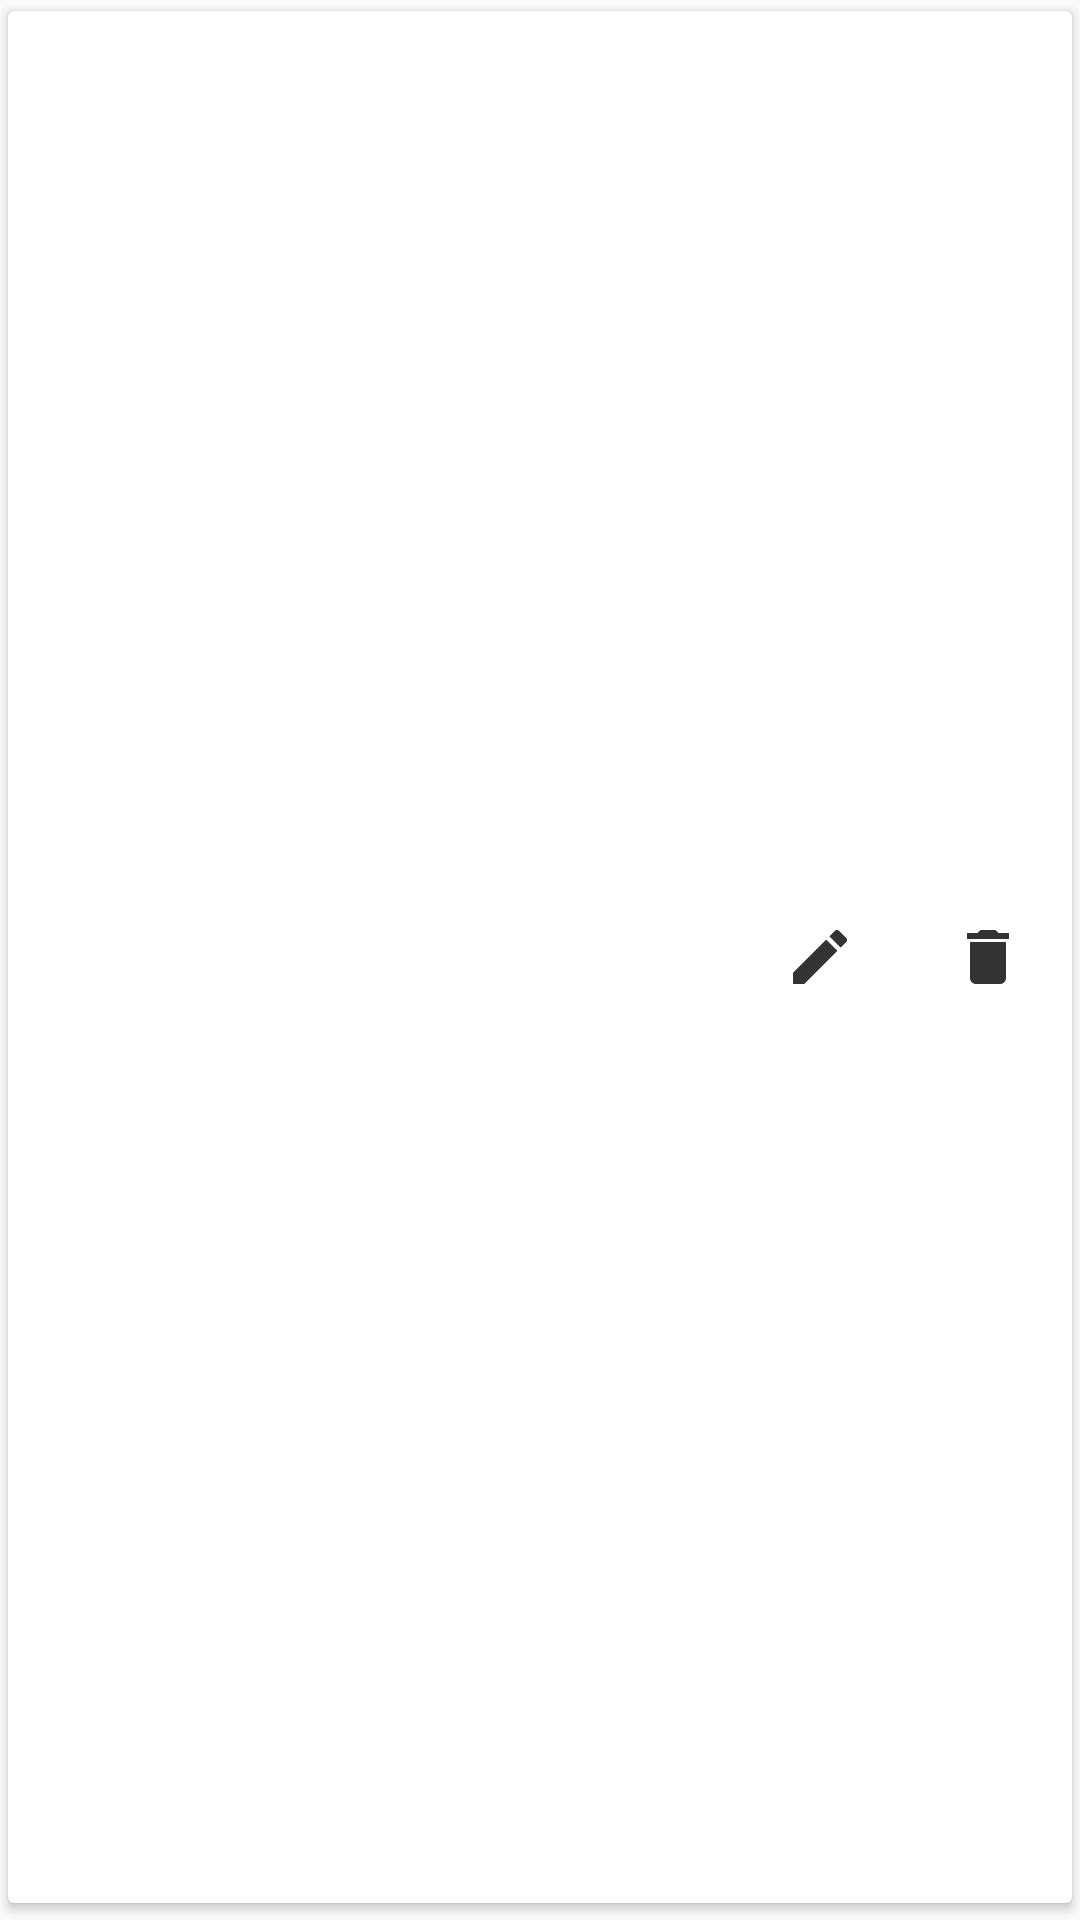

Named icons in this screenshot (1080x1920) and their centers, (x=x, y=y):
Delete: (x=988, y=957)
Edit: (x=820, y=957)
